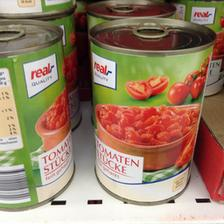Tomatensauce: (88, 15, 216, 205), (1, 17, 76, 211)
